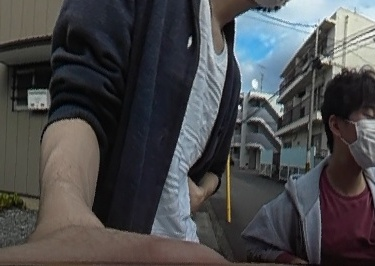person: (257, 70, 375, 266)
